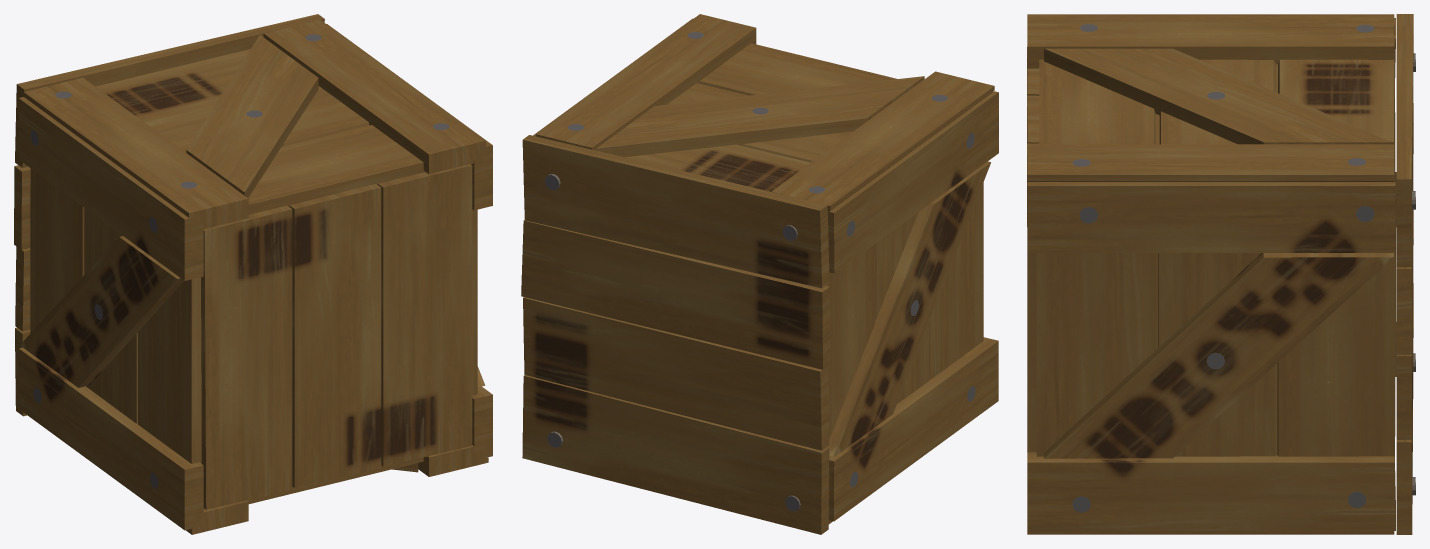
The model's file is brk_woodbox.fbx.
3 views of the same model, side by side, from view 1: azimuth 30°, elevation 25°; view 2: azimuth 150°, elevation 25°; view 3: azimuth 270°, elevation 25° (orthographic). The views are drawn at different scales.
Parts seen in each view (by area): view 1: w5_brk_woodbox; view 2: w5_brk_woodbox; view 3: w5_brk_woodbox.
Part boxes in pixels (x1,y1,x2,y2): w5_brk_woodbox: [14, 14, 492, 534]; w5_brk_woodbox: [521, 14, 998, 534]; w5_brk_woodbox: [1027, 14, 1415, 534].
Bounding box in the file's own units: 2.08 × 2.02 × 2.07.
Materials: 1 (1 with a texture image).
